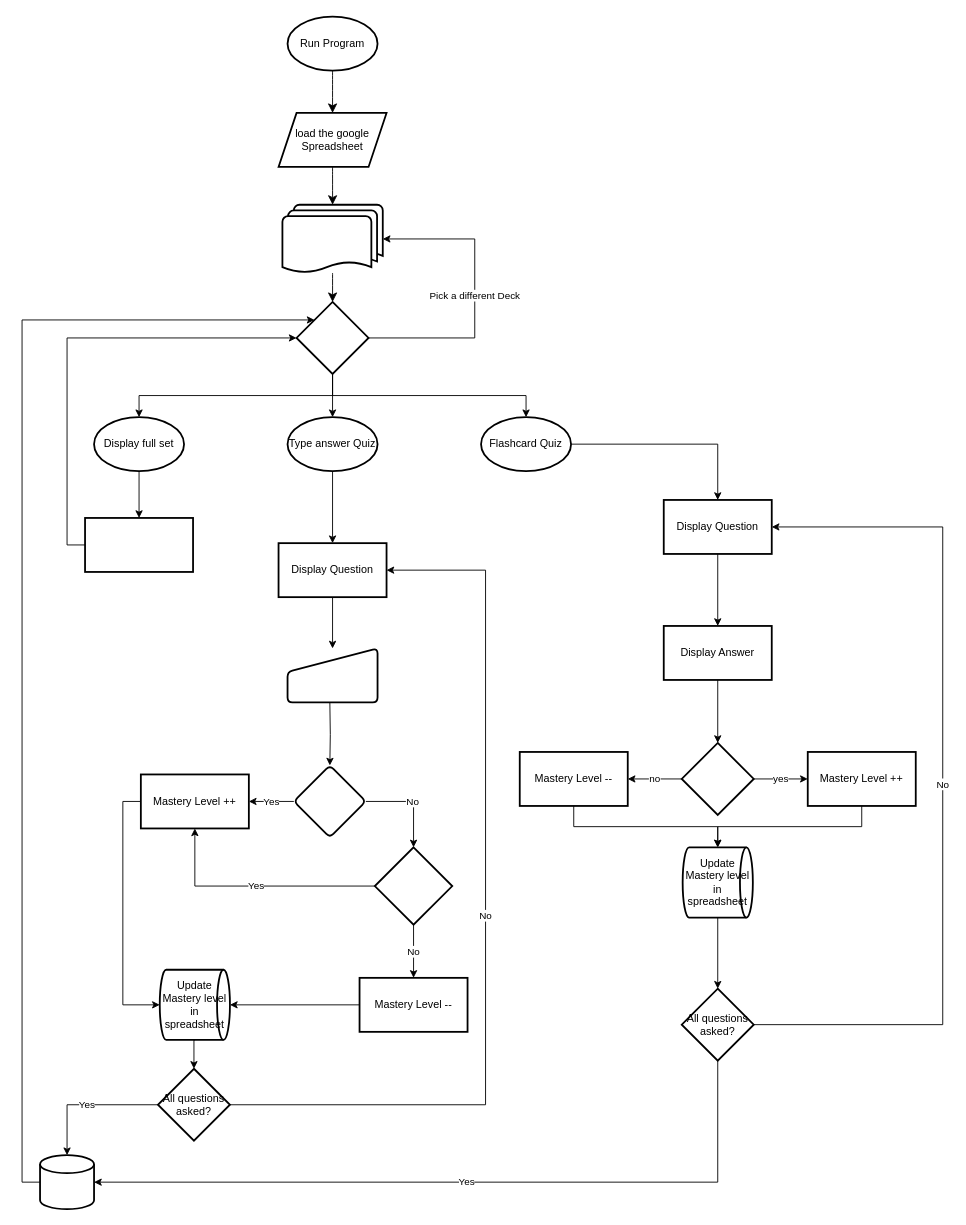
This 966x1225 diagram has some shape labels left out. The centre of each missing label's shape, as x and y in pixels:
Ask if user knew the answer: the point at 717,778
Correct?: the point at 329,801
Count as correct?: the point at 413,885
Display All Questions and answers in a Table: the point at 139,544
Main Menu: the point at 332,337
pick a deck: the point at 332,238
Type Answer: the point at 332,675
Upload Data: the point at 66,1182
